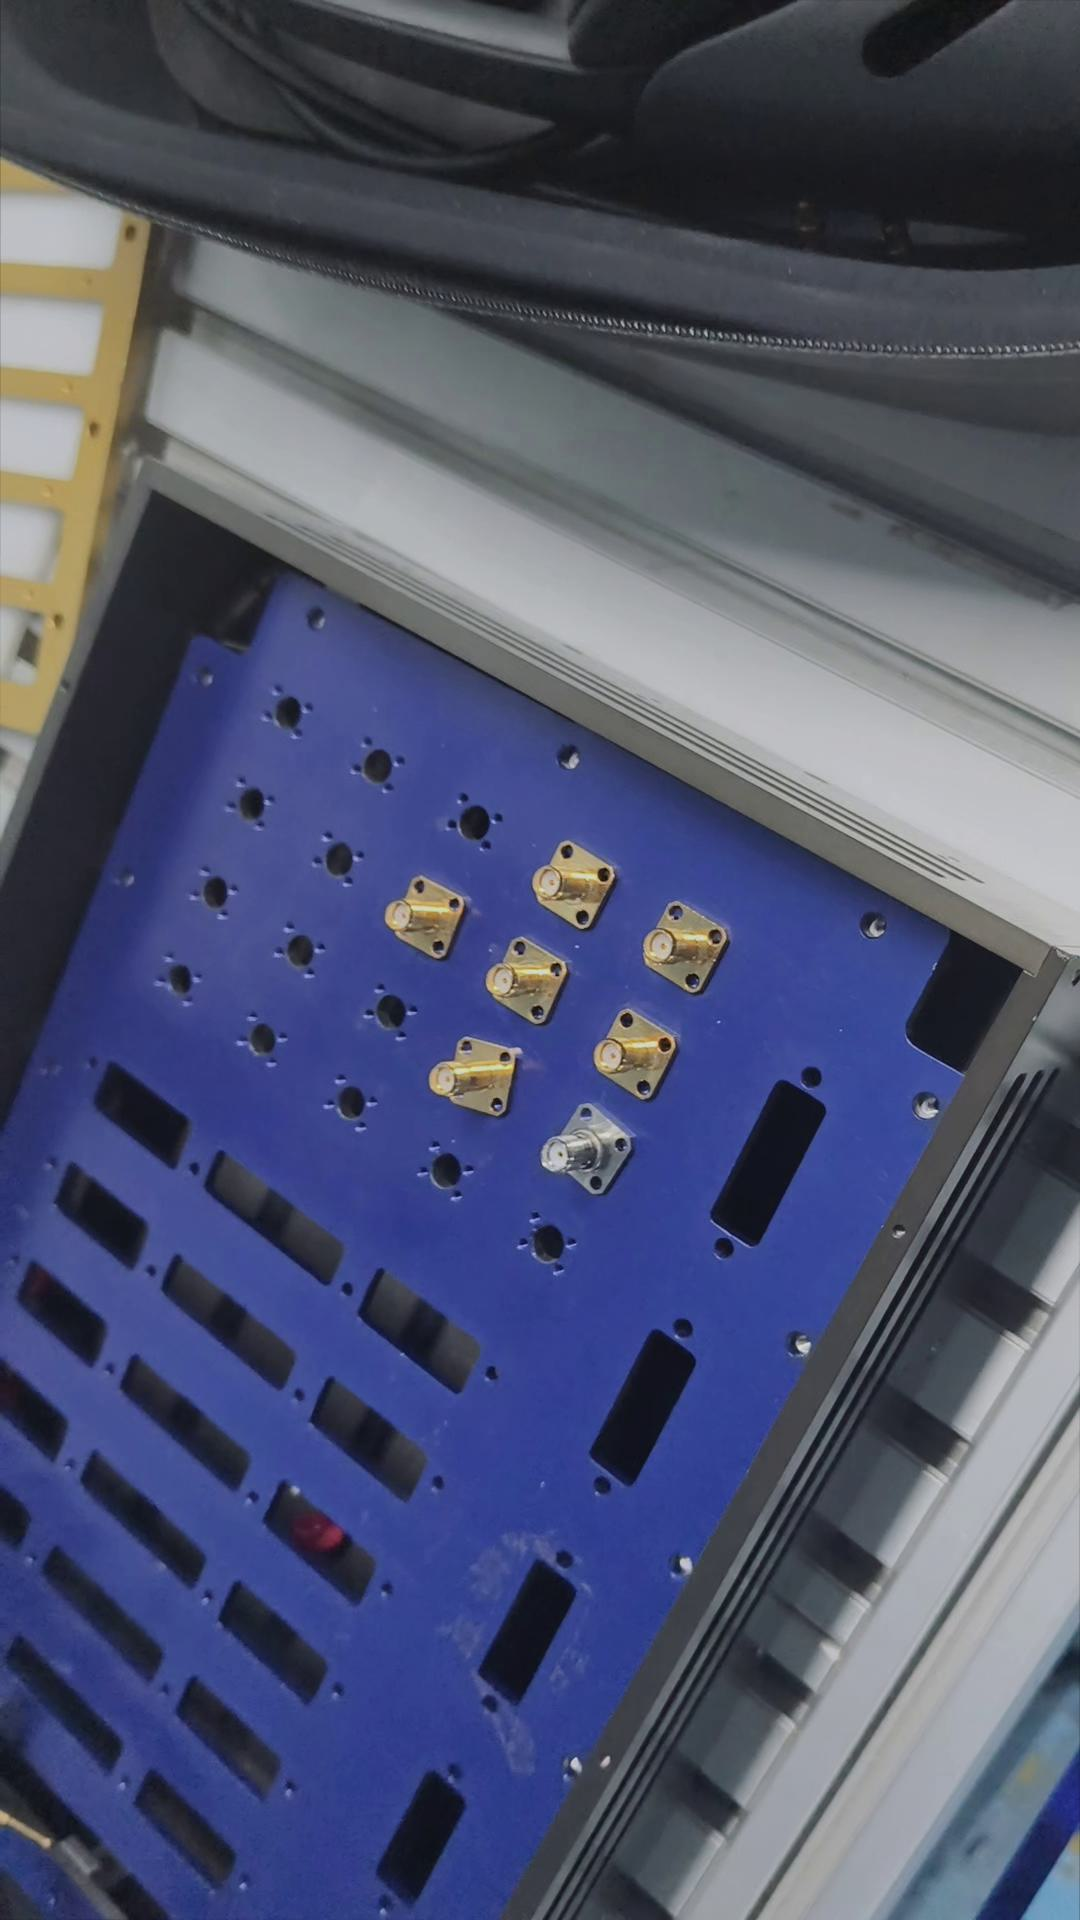SMA: (535, 1095, 638, 1197), (638, 891, 737, 994), (580, 1002, 680, 1100), (476, 935, 571, 1029), (525, 837, 613, 926), (380, 873, 467, 963), (433, 1036, 518, 1116)
